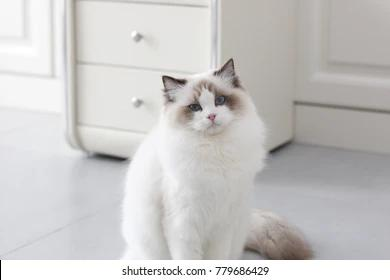ragdoll: (158, 54, 252, 147)
